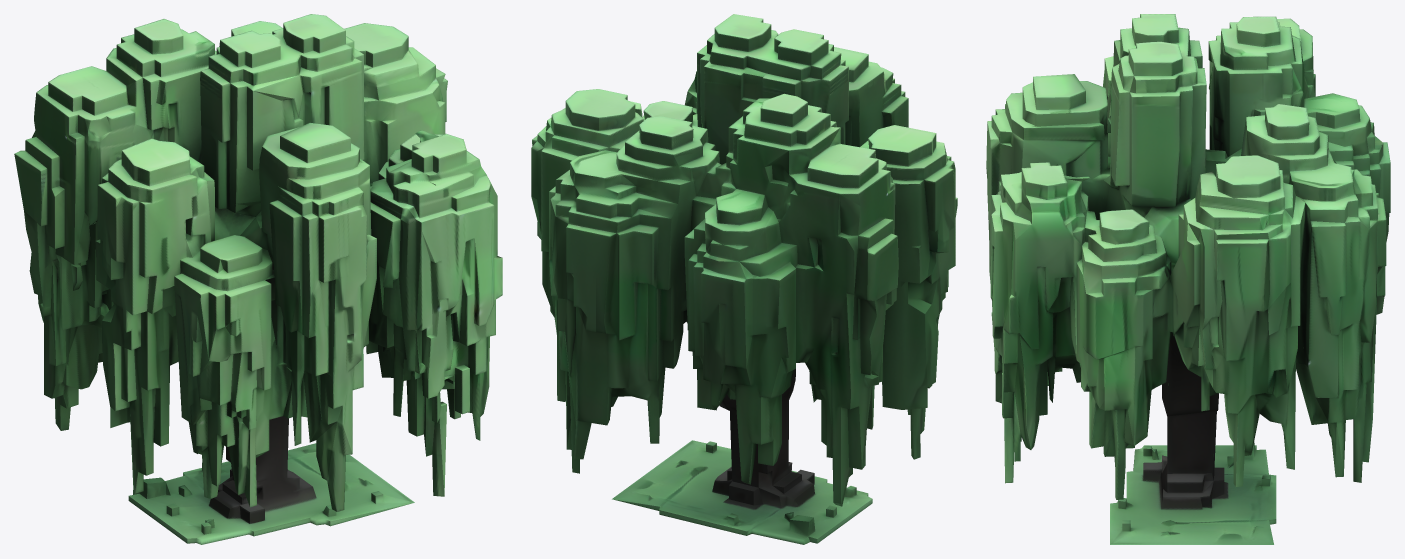
Rendered from arbol.obj.
3 views of the same model, side by side, from view 1: azimuth 30°, elevation 25°; view 2: azimuth 150°, elevation 25°; view 3: azimuth 270°, elevation 25° (orthographic). The views are drawn at different scales.
Visible parts, largest first — view 1: model; view 2: model; view 3: model.
Part boxes in pixels (box(x1,y1,x2,y2)): model: box(14, 14, 502, 544); model: box(531, 14, 957, 544); model: box(986, 14, 1390, 544).
Size of the model in its own units: 1.61 by 1.91 by 1.52.
Materials: 1 (1 with a texture image).
